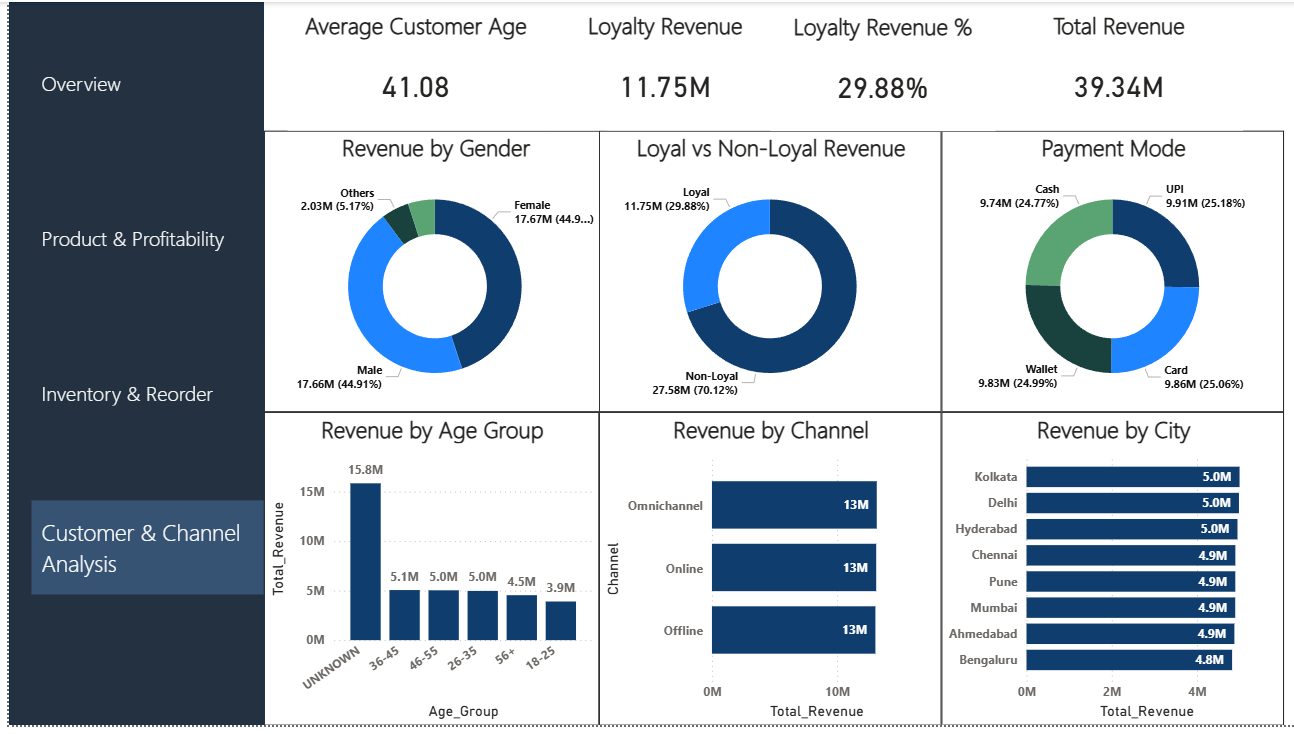

Layout of this report page (visuals, bound fields, positions):
{"tool":"powerbi","page":{"name":"Customer & Channel Analysis","canvas":[1280,720],"ordinal":3},"visuals":[{"type":"shape","box":[0,0,253.8,720],"z":0},{"type":"pageNavigator","box":[22.5,33.8,231.2,558.8],"z":1000},{"type":"donutChart","title":"Revenue by Gender","fields":{"Category":["Indian_FMCG_Retail_Sales_Customer_Inventory_(2024).Customer_Gender"],"Y":["Indian_FMCG_Retail_Sales_Customer_Inventory_(2024).Total_Revenue"]},"box":[253.8,128.1,340.8,279.9],"z":2000},{"type":"donutChart","title":"Loyal vs Non-Loyal Revenue","fields":{"Category":["Indian_FMCG_Retail_Sales_Customer_Inventory_(2024).Loyalty_Flag"],"Y":["Indian_FMCG_Retail_Sales_Customer_Inventory_(2024).Total_Revenue"]},"box":[587.1,128.1,340.8,279.9],"z":3000},{"type":"clusteredColumnChart","title":"Revenue by Age Group","fields":{"Category":["Indian_FMCG_Retail_Sales_Customer_Inventory_(2024).Age_Group"],"Y":["Indian_FMCG_Retail_Sales_Customer_Inventory_(2024).Total_Revenue"]},"box":[253.8,408,333.4,312.2],"z":4000},{"type":"clusteredBarChart","title":"Revenue by Channel","fields":{"Category":["Indian_FMCG_Retail_Sales_Customer_Inventory_(2024).Channel"],"Y":["Indian_FMCG_Retail_Sales_Customer_Inventory_(2024).Total_Revenue"]},"box":[587.1,408,340.8,312.2],"z":5000},{"type":"barChart","title":"Revenue by City","fields":{"Category":["Indian_FMCG_Retail_Sales_Customer_Inventory_(2024).City"],"Y":["Indian_FMCG_Retail_Sales_Customer_Inventory_(2024).Total_Revenue"]},"box":[928,408,341,312],"z":6000},{"type":"card","title":"Average Customer Age","fields":{"Values":["Indian_FMCG_Retail_Sales_Customer_Inventory_(2024).Average_Customer_Age"]},"box":[277.4,0,255,128.1],"z":7000},{"type":"card","title":"Loyalty Revenue","fields":{"Values":["Indian_FMCG_Retail_Sales_Customer_Inventory_(2024).Loyalty_Revenue"]},"box":[532.4,0,241.3,128.1],"z":8000},{"type":"donutChart","title":"Payment Mode","fields":{"Category":["Indian_FMCG_Retail_Sales_Customer_Inventory_(2024).Payment_Mode"],"Y":["Indian_FMCG_Retail_Sales_Customer_Inventory_(2024).Total_Revenue"]},"box":[928,128.1,340.8,279.9],"z":9000},{"type":"card","title":"Loyalty Revenue %","fields":{"Values":["Indian_FMCG_Retail_Sales_Customer_Inventory_(2024).Loyalty_Revenue_%"]},"box":[757.6,1.2,223.9,126.9],"z":10000},{"type":"card","title":"Total Revenue","fields":{"Values":["Indian_FMCG_Retail_Sales_Customer_Inventory_(2024).Total_Revenue"]},"box":[981.5,0,246.3,128.1],"z":11000}]}

Visuals, with their boxes in screenshot pixels (x1, y1, x2, y2), scaled from the page's 1280x720 canvas onto the 1294x734 screenshot:
shape: [0, 0, 257, 733]
pageNavigator: [23, 34, 256, 604]
"Revenue by Gender" donutChart: [257, 131, 601, 416]
"Loyal vs Non-Loyal Revenue" donutChart: [594, 131, 938, 416]
"Revenue by Age Group" clusteredColumnChart: [257, 416, 594, 733]
"Revenue by Channel" clusteredBarChart: [594, 416, 938, 733]
"Revenue by City" barChart: [938, 416, 1283, 733]
"Average Customer Age" card: [280, 0, 538, 131]
"Loyalty Revenue" card: [538, 0, 782, 131]
"Payment Mode" donutChart: [938, 131, 1283, 416]
"Loyalty Revenue %" card: [766, 1, 992, 131]
"Total Revenue" card: [992, 0, 1241, 131]
